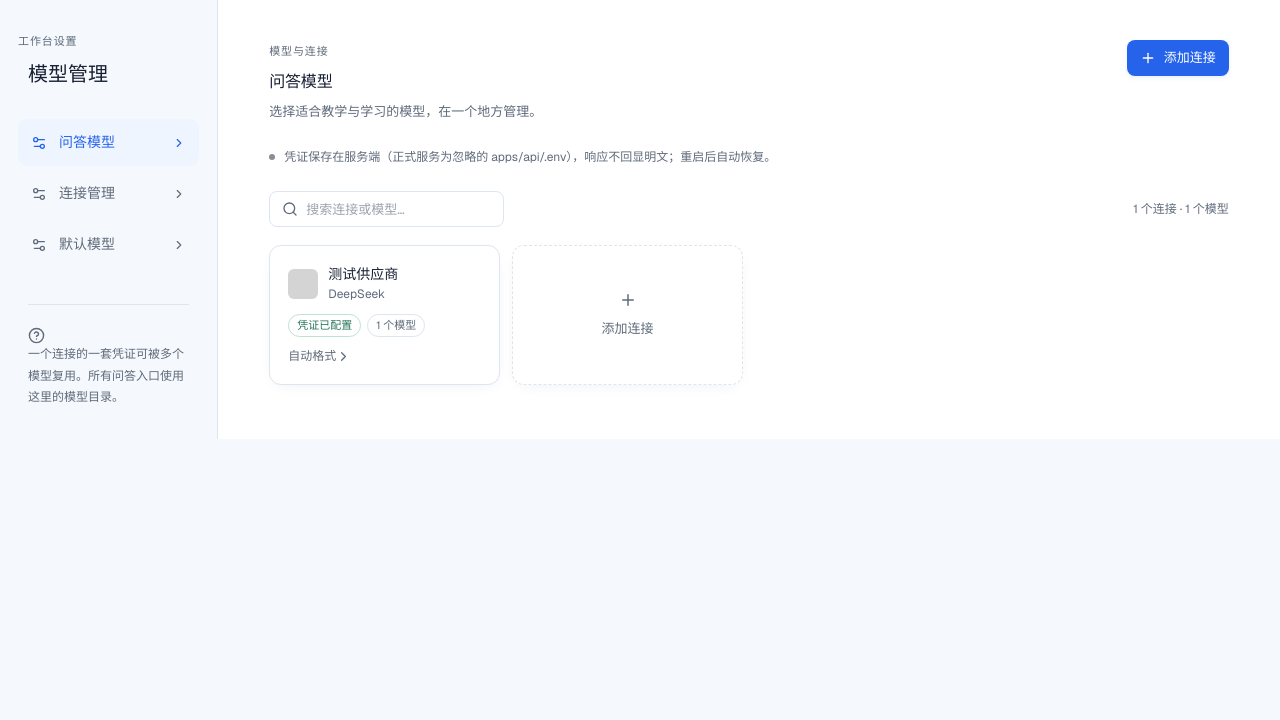
Test: 模型管理审查回归 › 保存后用服务端返回值刷新表单，再保存不会写回旧值（MR-07）
The width and height of the screenshot is (1280, 720).
Step 1. Click the button with aria-label "打开 测试供应商 的详情" → (385, 315), box [269, 245, 500, 385]
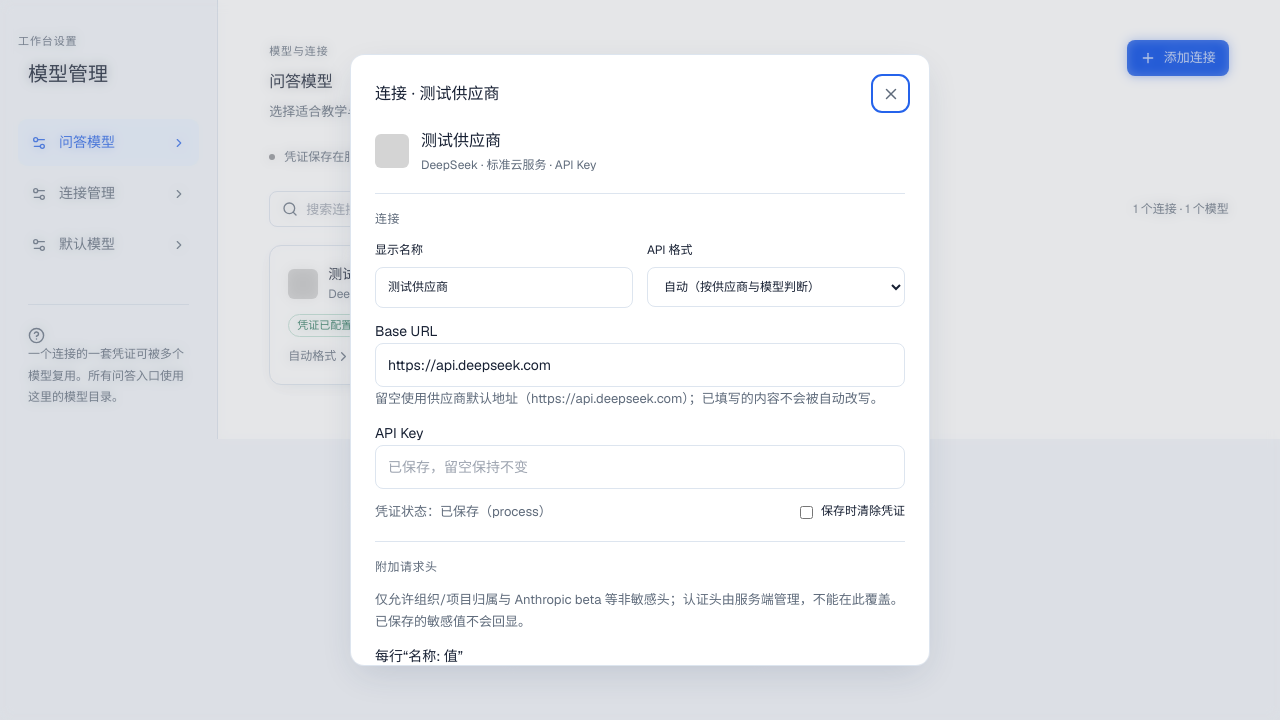
Step 2. Type "https://new.example.com/v1" into the field labelled "Base URL" → (640, 365), box [375, 343, 905, 387]
(page scrolled)
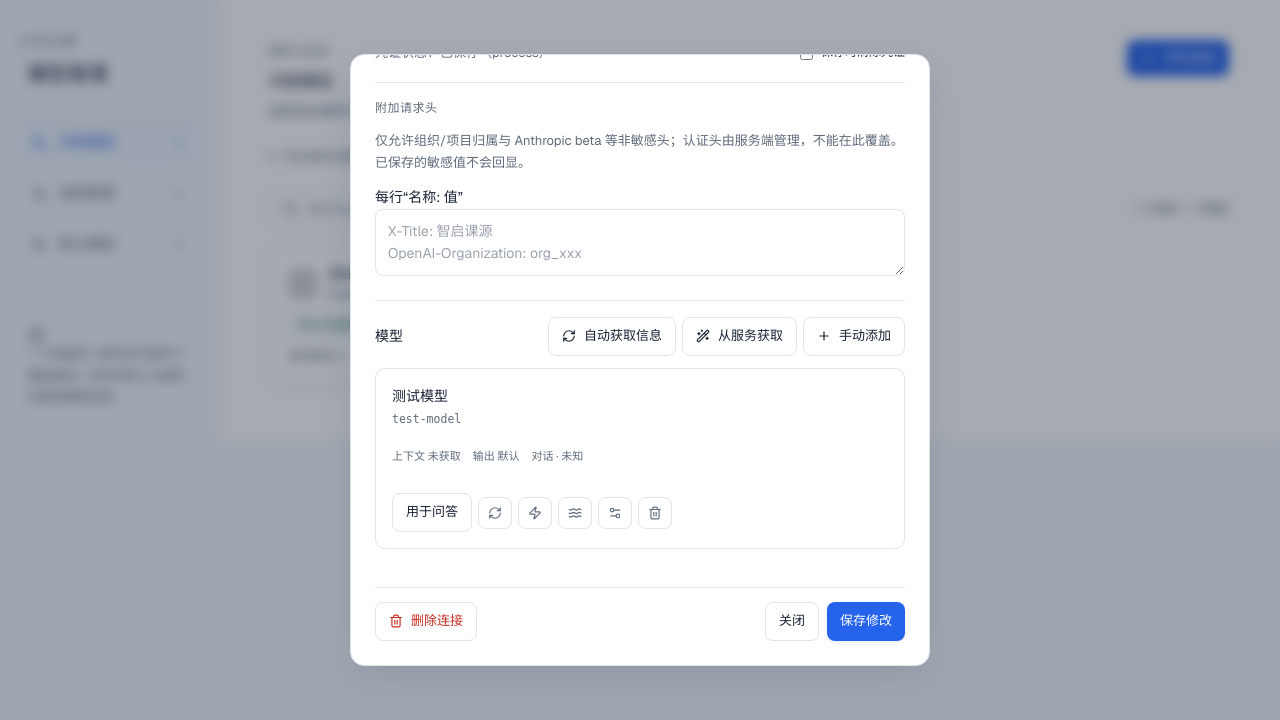
Step 3. Click the button "保存修改" → (866, 621), box [827, 602, 905, 641]
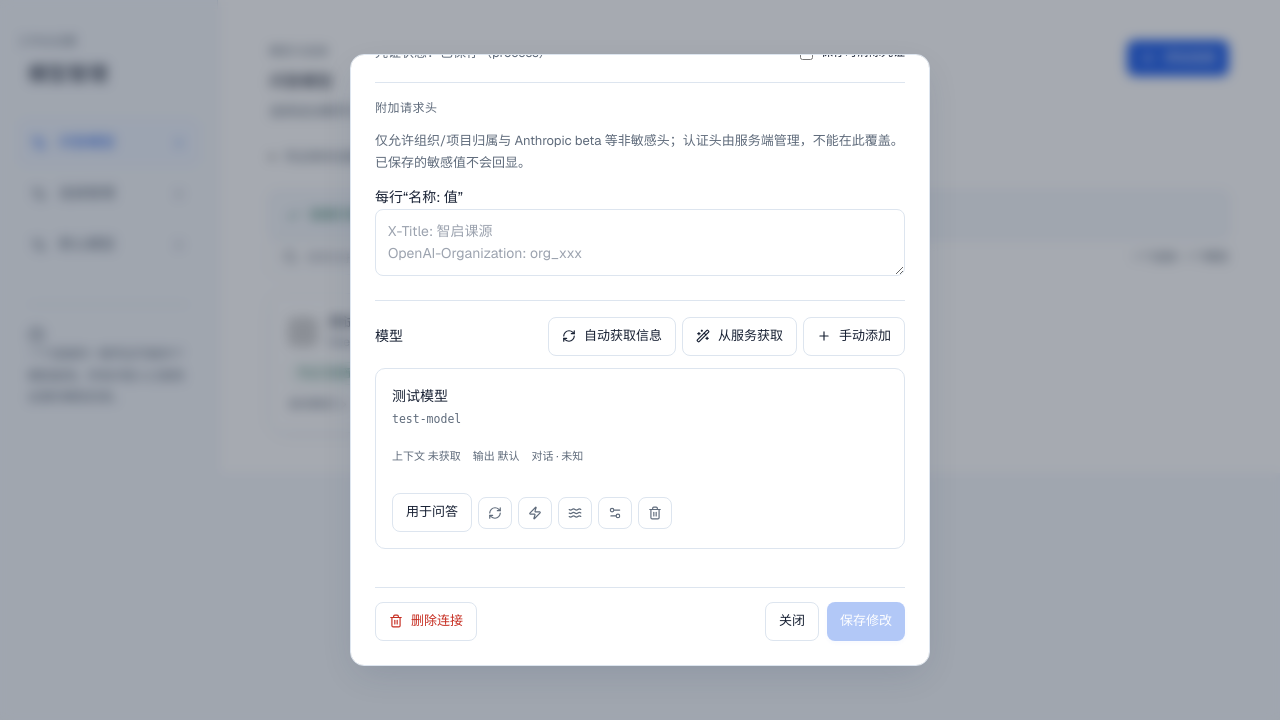
Expected: the text "连接已保存" is shown, [269, 191, 1229, 239]
Expected: the button "保存修改" is disabled, [827, 602, 905, 641]
